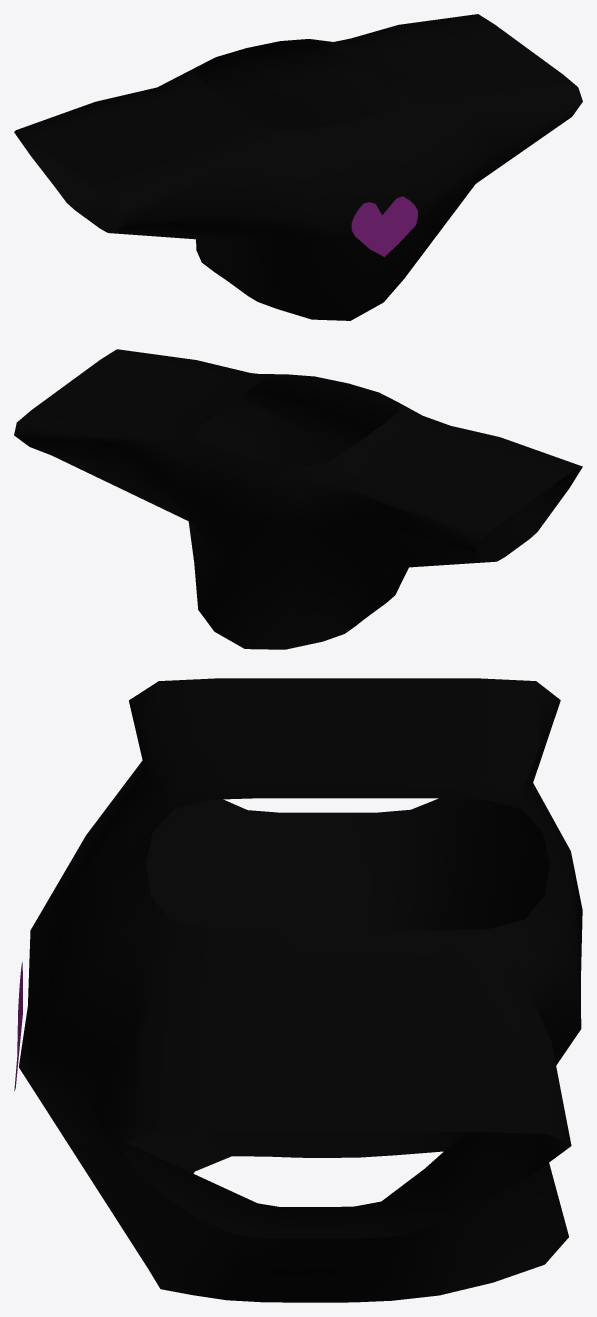
Rendered from siyah kalpli tişört.fbx.
3 renders of one model, top to bottom at view 1: azimuth 30°, elevation 25°; view 2: azimuth 150°, elevation 25°; view 3: azimuth 270°, elevation 25°, orthographic. The views are drawn at different scales.
Parts seen in each view (by area): view 1: Daire; view 2: Daire; view 3: Daire.
Boxes of the visible parts, x1,y1,x2,y2 form: Daire: (14,14,582,320); Daire: (14,349,582,649); Daire: (14,678,582,1302).
Size of the model in its own units: 186 by 76.04 by 97.81.
